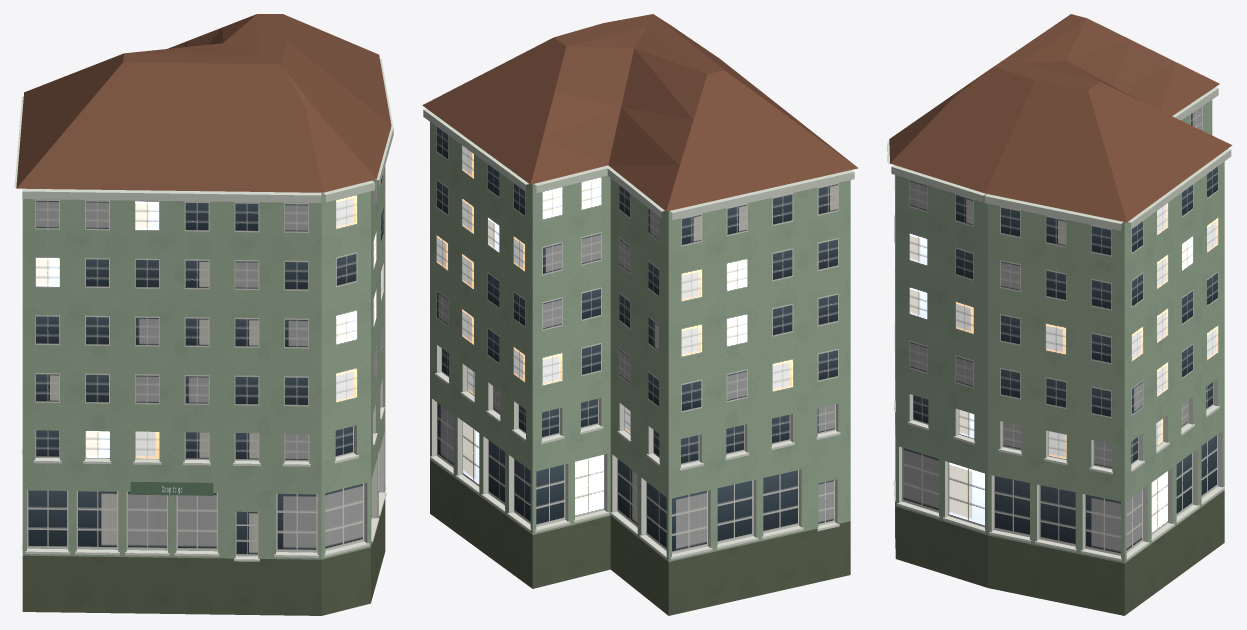
The model's file is langA_coop.glb.
3 views of the same model, side by side, from view 1: azimuth 30°, elevation 25°; view 2: azimuth 150°, elevation 25°; view 3: azimuth 270°, elevation 25° (orthographic). The views are drawn at different scales.
Visible parts, largest first — view 1: langA_coop; view 2: langA_coop; view 3: langA_coop.
Boxes of the visible parts, box(x1,y1,x2,y2) form: langA_coop: box(14, 14, 393, 615); langA_coop: box(422, 14, 858, 615); langA_coop: box(887, 14, 1232, 615).
Bounding box in the file's own units: 22.86 × 27.21 × 17.92.
Materials: 3 (3 with a texture image).
